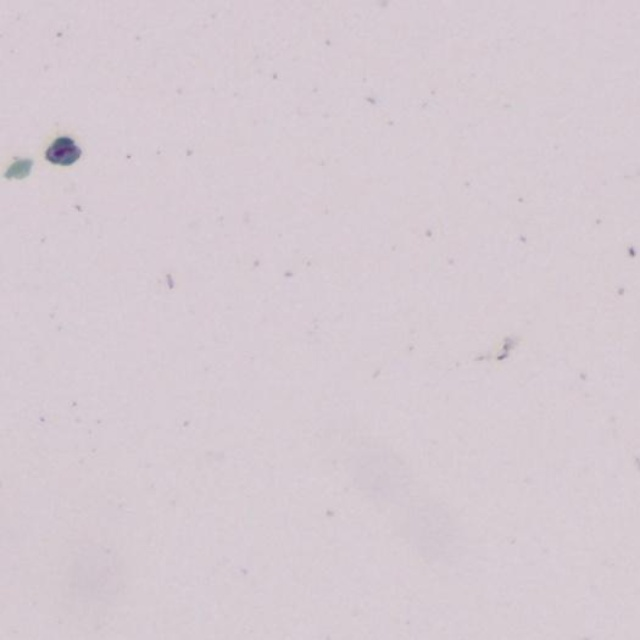non_viable: (46, 137, 80, 163)
